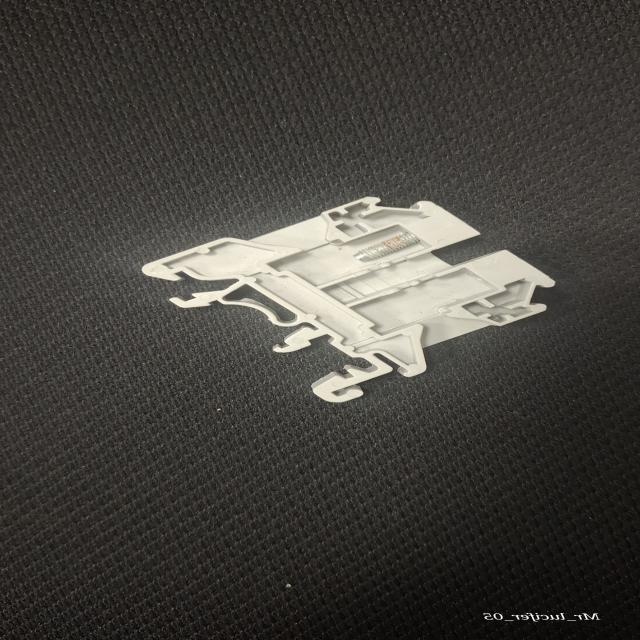Reject: (117, 188, 589, 418)
